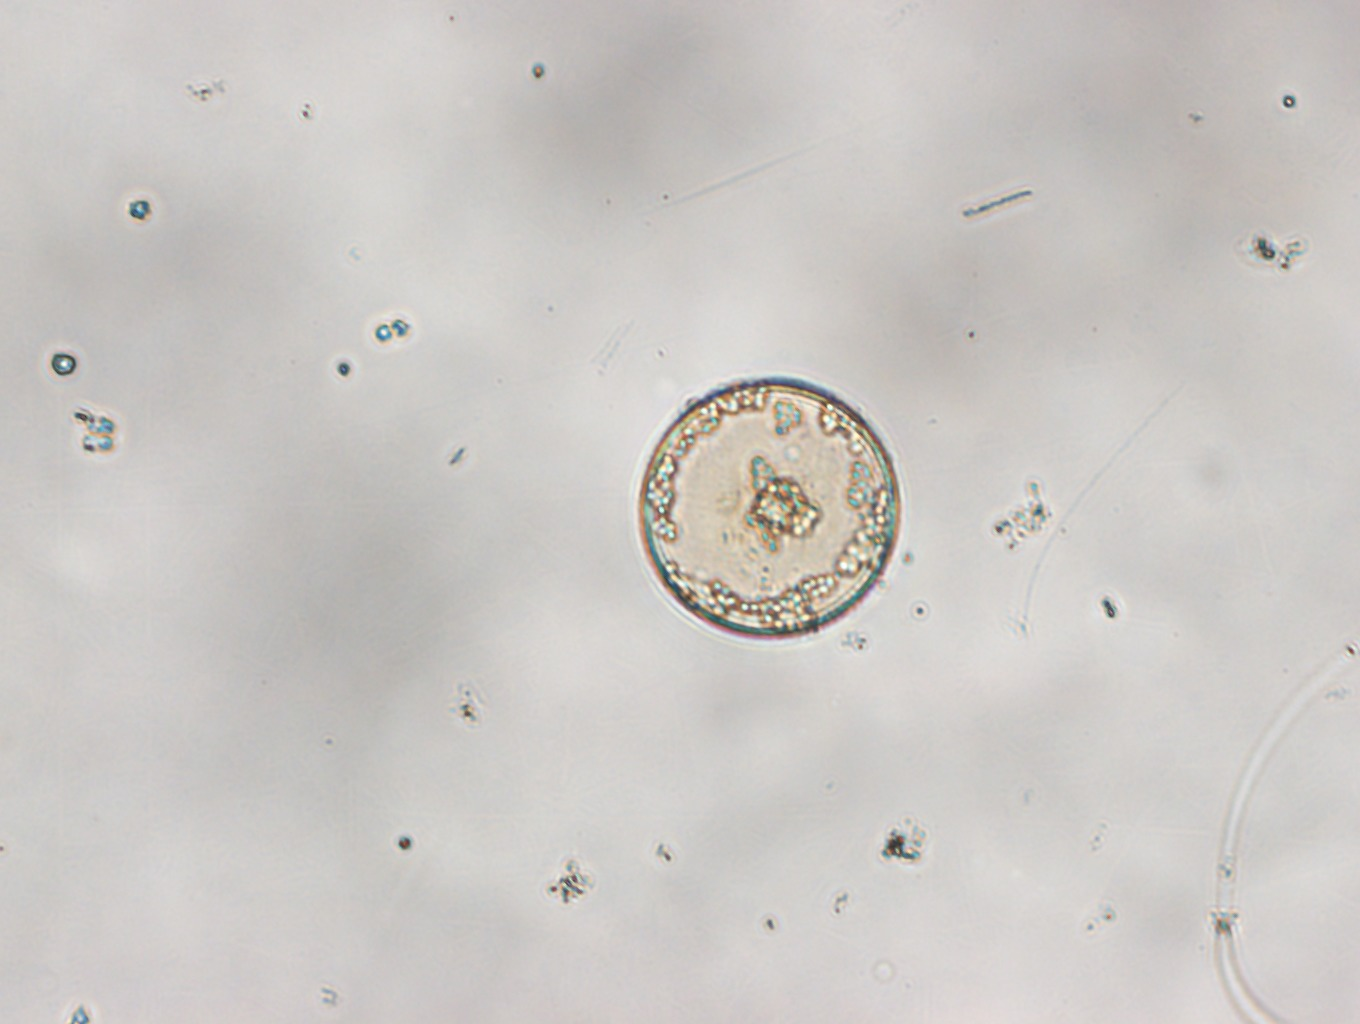coscinodiscus: (635, 374, 901, 643)
